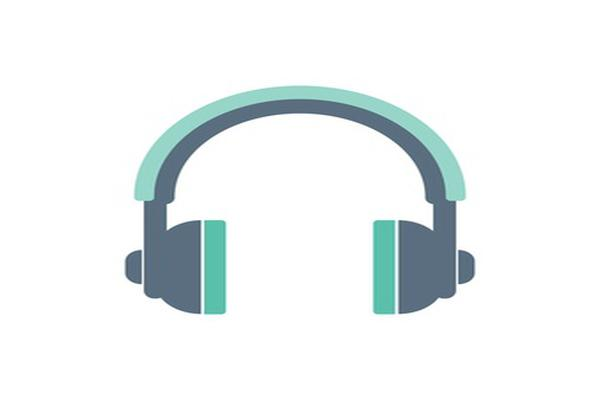headphone: (76, 38, 524, 331)
